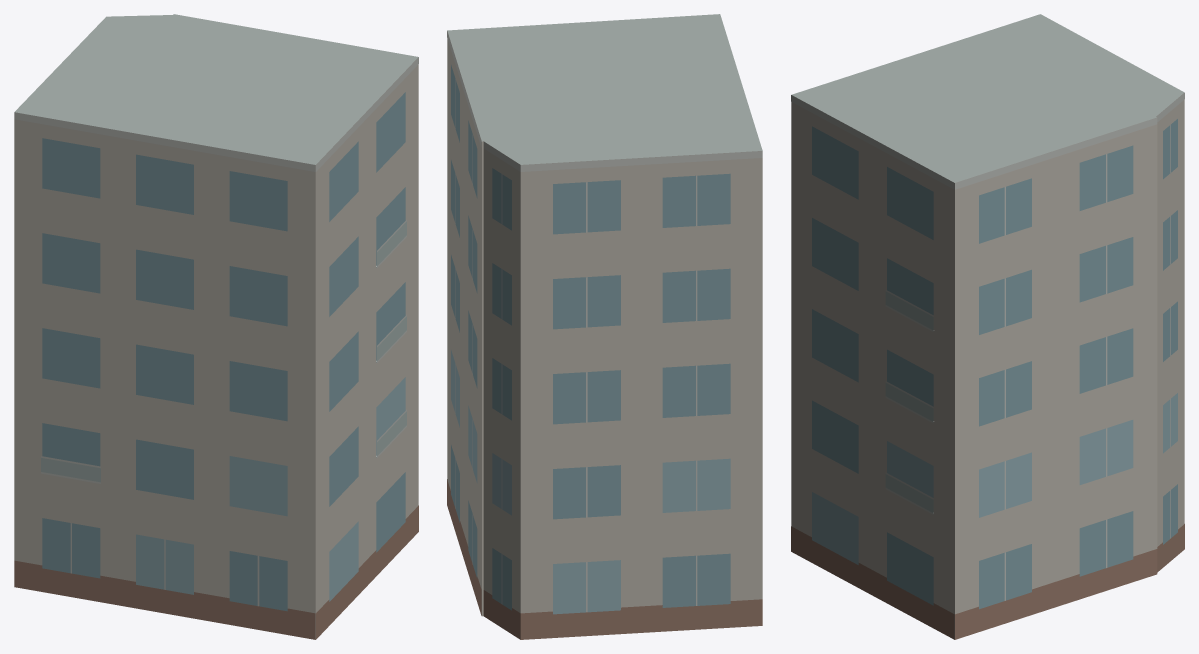
File: survey-upis-32533511.glb
3 renders of one model, left to right at view 1: azimuth 30°, elevation 25°; view 2: azimuth 150°, elevation 25°; view 3: azimuth 270°, elevation 25°, orthographic. The views are drawn at different scales.
Visible parts, largest first — view 1: survey-upis-32533511.tmp; view 2: survey-upis-32533511.tmp; view 3: survey-upis-32533511.tmp.
Boxes of the visible parts, x1,y1,x2,y2 form: survey-upis-32533511.tmp: (14,14,418,639); survey-upis-32533511.tmp: (447,14,762,639); survey-upis-32533511.tmp: (791,14,1184,639).
Size of the model in its own units: 12.9 by 16.25 by 12.69.
